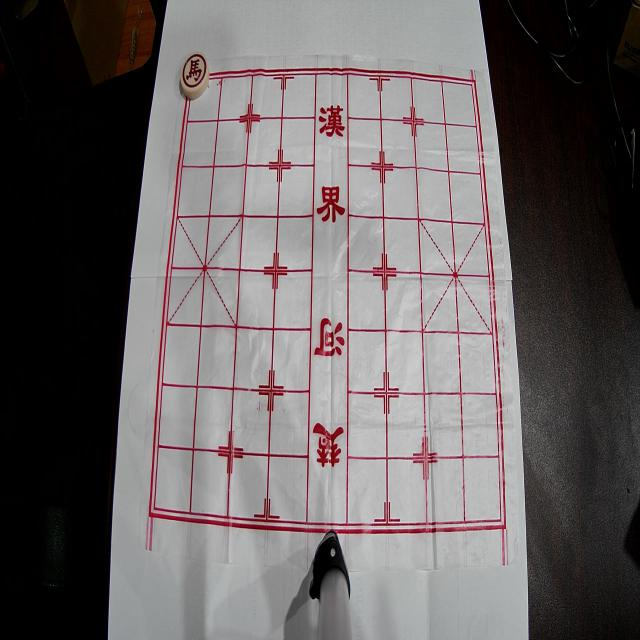red-horse: (180, 52, 210, 98)
